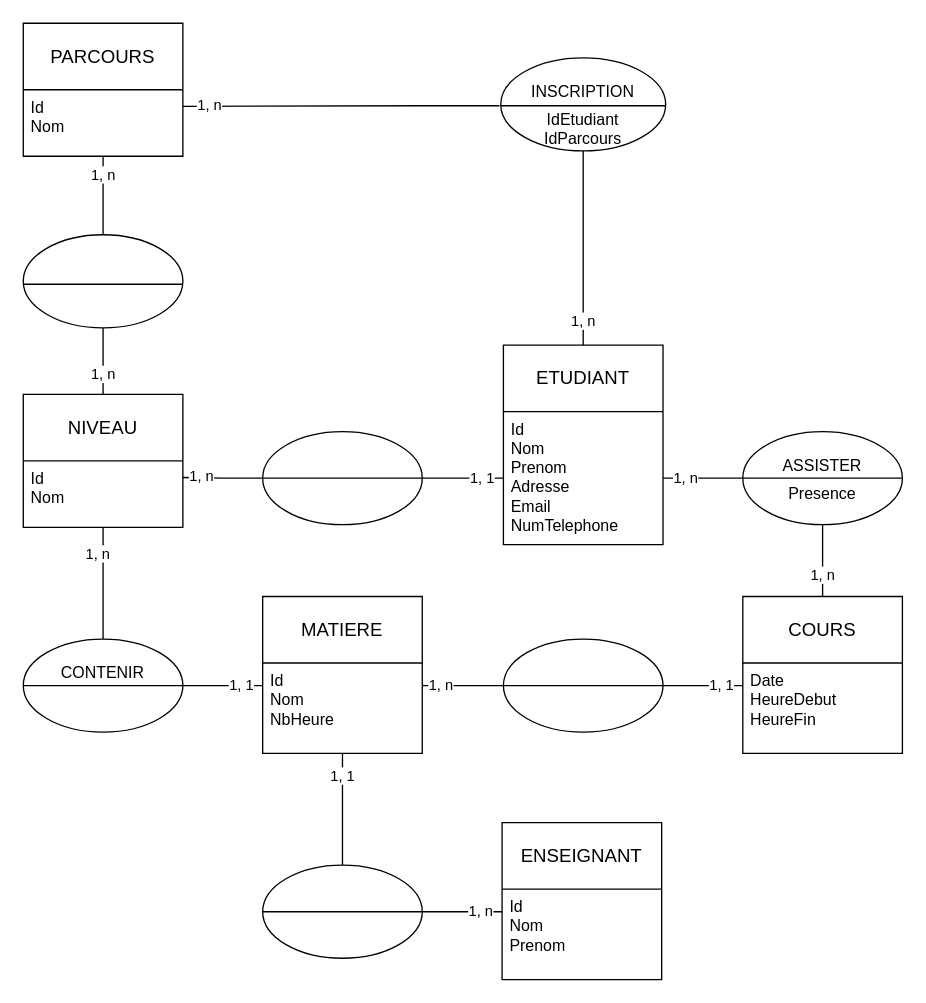
This 926x1003 diagram has some shape labels left out. The centre of each missing label's shape, as x and y in pixels:
"APPARTENIR" belongs at (341,477).
"COMPRENDRE" belongs at (102,280).
"ENSEIGNER" belongs at (341,911).
"S'EFFECTUER" belongs at (582,685).
